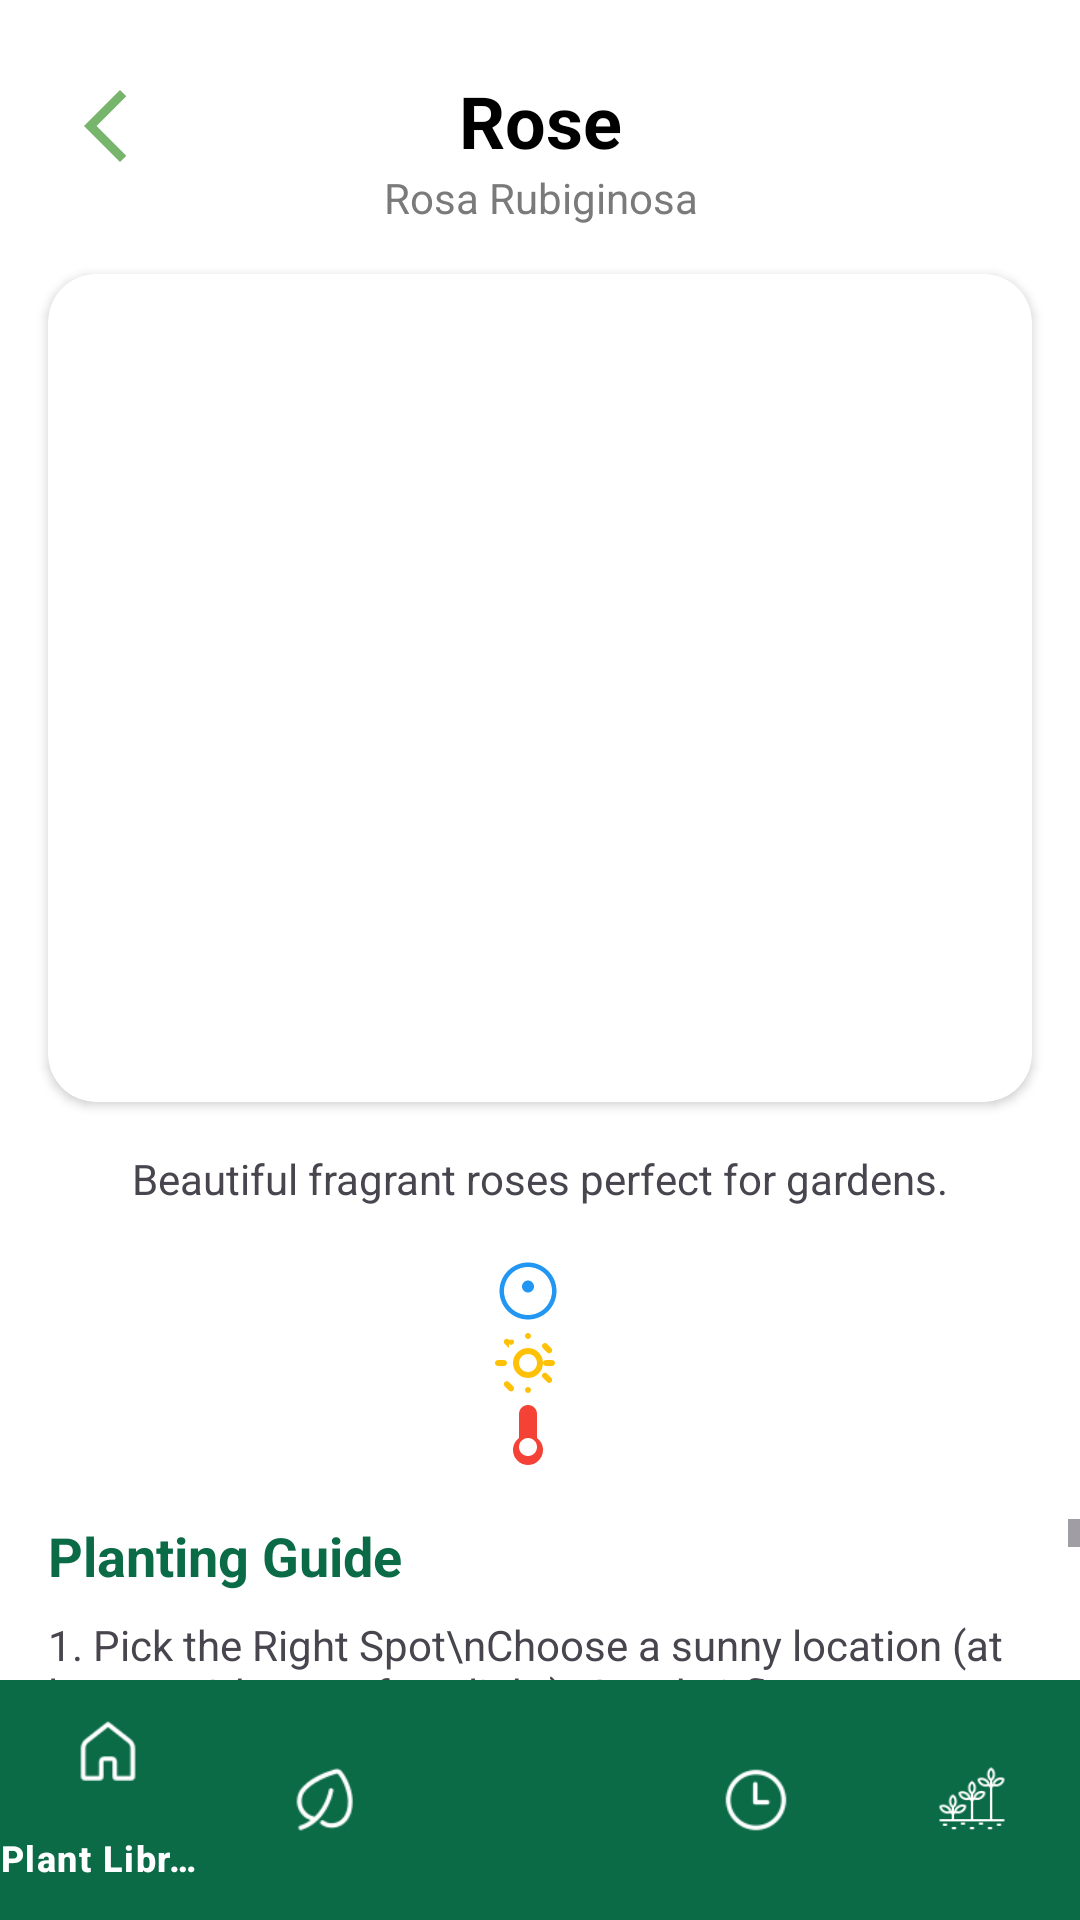

Icon click points for this 1080px x 1920px phone screenshot, format (x=x, y=y):
arrow left: (x=105, y=126)
